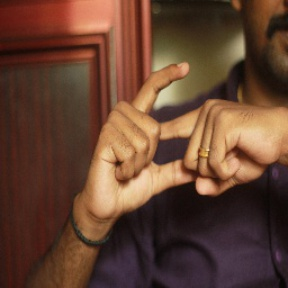E: (118, 56, 236, 194)
